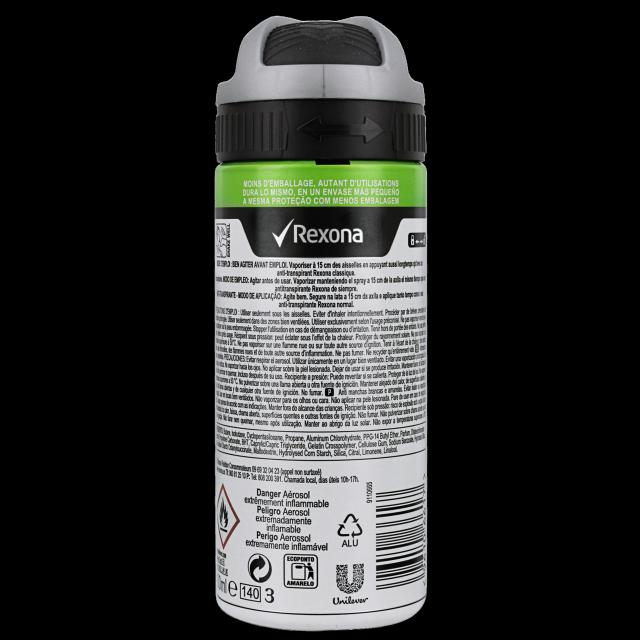GHS_Symbol_FLAME: (216, 482, 241, 550)
